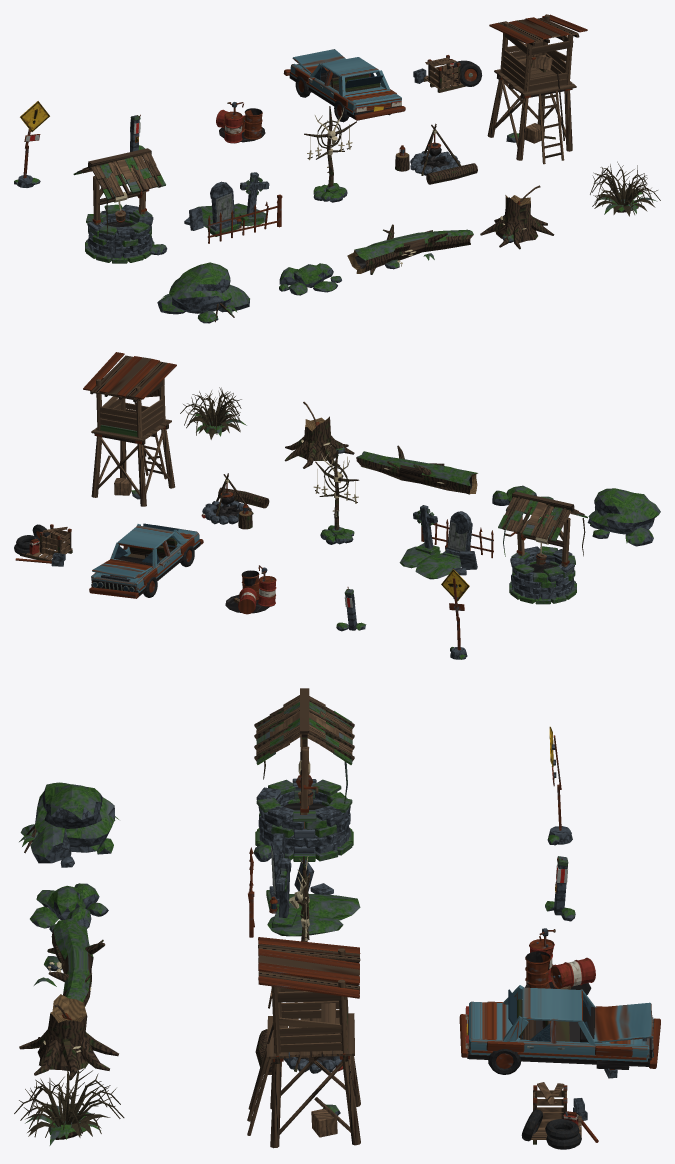
File: ForestProps.glb
3 views of the same model, one above another, from view 1: azimuth 30°, elevation 25°; view 2: azimuth 150°, elevation 25°; view 3: azimuth 270°, elevation 25° (orthographic). The views are drawn at different scales.
Visible parts, largest first — view 1: Prop_HuntingBlind_Rotted, Prop_AbandonedWell, Prop_CarWreck_Rusted, Prop_Boulder_Mossy, Prop_OldGravestones, Prop_FallenLog_Rotted, Prop_AbandonedCampfire, Prop_TreeStump_Old, Prop_BrambleBush_Dead, Prop_ScrapTires_Pallet, Prop_WoodsTotem, Prop_RustedBarrels (+2 smaller); view 2: Prop_HuntingBlind_Rotted, Prop_AbandonedWell, Prop_CarWreck_Rusted, Prop_OldGravestones, Prop_Boulder_Mossy, Prop_FallenLog_Rotted, Prop_ScrapTires_Pallet, Prop_AbandonedCampfire, Prop_TreeStump_Old, Prop_BrambleBush_Dead, Prop_RustedBarrels, Prop_WoodsTotem (+3 smaller); view 3: Prop_HuntingBlind_Rotted, Prop_CarWreck_Rusted, Prop_AbandonedWell, Prop_Boulder_Mossy, Prop_OldGravestones, Prop_TreeStump_Old, Prop_BrambleBush_Dead, Prop_FallenLog_Rotted, Prop_ScrapTires_Pallet, Prop_RustedBarrels, Prop_RockCluster_Small, Prop_AbandonedCampfire (+3 smaller).
Part boxes in pixels (x1=…): Prop_HuntingBlind_Rotted: x1=487, y1=14, x2=587, y2=164; Prop_AbandonedWell: x1=73, y1=148, x2=167, y2=263; Prop_CarWreck_Rusted: x1=283, y1=49, x2=405, y2=122; Prop_Boulder_Mossy: x1=157, y1=262, x2=249, y2=323; Prop_OldGravestones: x1=184, y1=172, x2=282, y2=243; Prop_FallenLog_Rotted: x1=347, y1=224, x2=473, y2=274; Prop_AbandonedCampfire: x1=395, y1=123, x2=477, y2=184; Prop_TreeStump_Old: x1=480, y1=185, x2=554, y2=249; Prop_BrambleBush_Dead: x1=590, y1=161, x2=660, y2=216; Prop_ScrapTires_Pallet: x1=413, y1=55, x2=482, y2=92; Prop_WoodsTotem: x1=304, y1=106, x2=356, y2=202; Prop_RustedBarrels: x1=216, y1=102, x2=265, y2=143; Prop_HuntingBlind_Rotted: x1=83, y1=352, x2=176, y2=506; Prop_AbandonedWell: x1=498, y1=491, x2=587, y2=604; Prop_CarWreck_Rusted: x1=89, y1=523, x2=203, y2=598; Prop_OldGravestones: x1=399, y1=505, x2=493, y2=579; Prop_Boulder_Mossy: x1=587, y1=488, x2=660, y2=546; Prop_FallenLog_Rotted: x1=356, y1=445, x2=477, y2=494; Prop_ScrapTires_Pallet: x1=14, y1=524, x2=72, y2=566; Prop_AbandonedCampfire: x1=201, y1=473, x2=269, y2=529; Prop_TreeStump_Old: x1=284, y1=401, x2=354, y2=468; Prop_BrambleBush_Dead: x1=180, y1=387, x2=246, y2=439; Prop_RustedBarrels: x1=225, y1=565, x2=276, y2=614; Prop_WoodsTotem: x1=313, y1=449, x2=359, y2=544; Prop_HuntingBlind_Rotted: x1=247, y1=937, x2=360, y2=1148; Prop_CarWreck_Rusted: x1=459, y1=985, x2=660, y2=1078; Prop_AbandonedWell: x1=253, y1=688, x2=354, y2=861; Prop_Boulder_Mossy: x1=19, y1=782, x2=118, y2=867; Prop_OldGravestones: x1=248, y1=833, x2=360, y2=937; Prop_TreeStump_Old: x1=19, y1=994, x2=118, y2=1080; Prop_BrambleBush_Dead: x1=14, y1=1062, x2=124, y2=1145; Prop_FallenLog_Rotted: x1=34, y1=917, x2=105, y2=1006; Prop_ScrapTires_Pallet: x1=521, y1=1082, x2=598, y2=1149; Prop_RustedBarrels: x1=525, y1=928, x2=595, y2=994; Prop_RockCluster_Small: x1=30, y1=883, x2=108, y2=932; Prop_AbandonedCampfire: x1=255, y1=1009, x2=342, y2=1074.
Bounding box in the file's own units: 18.67 × 4.54 × 15.15.
1 material, 1 textured.
